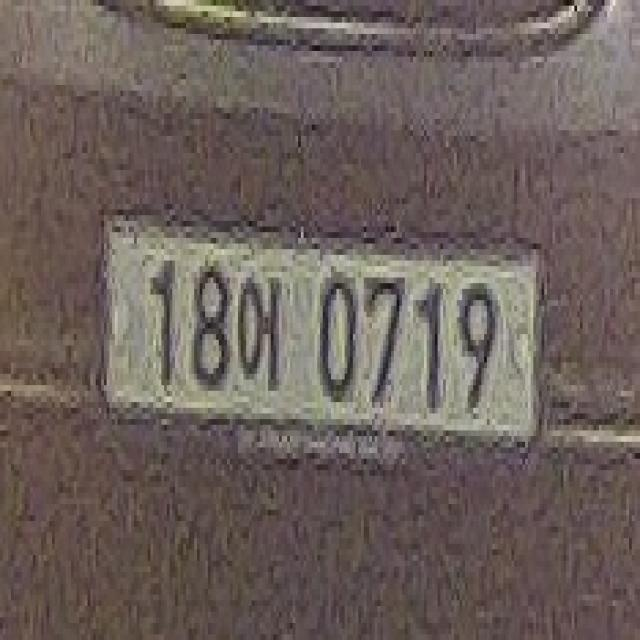0: (315, 272, 361, 413)
1: (145, 249, 180, 408), (410, 277, 446, 425)
7: (363, 266, 408, 419)
8: (191, 255, 230, 402)
9: (454, 272, 501, 425)
eo: (235, 272, 282, 402)
license_plate: (93, 204, 547, 481)
